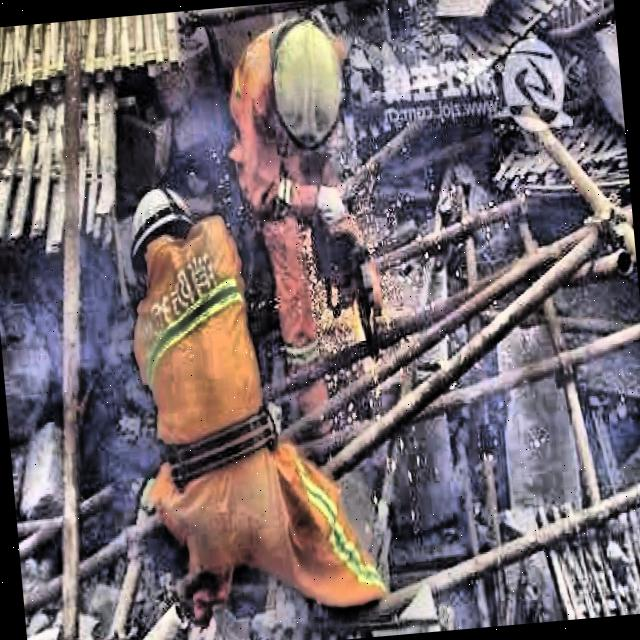helmet: (256, 22, 349, 156), (126, 182, 201, 285)
